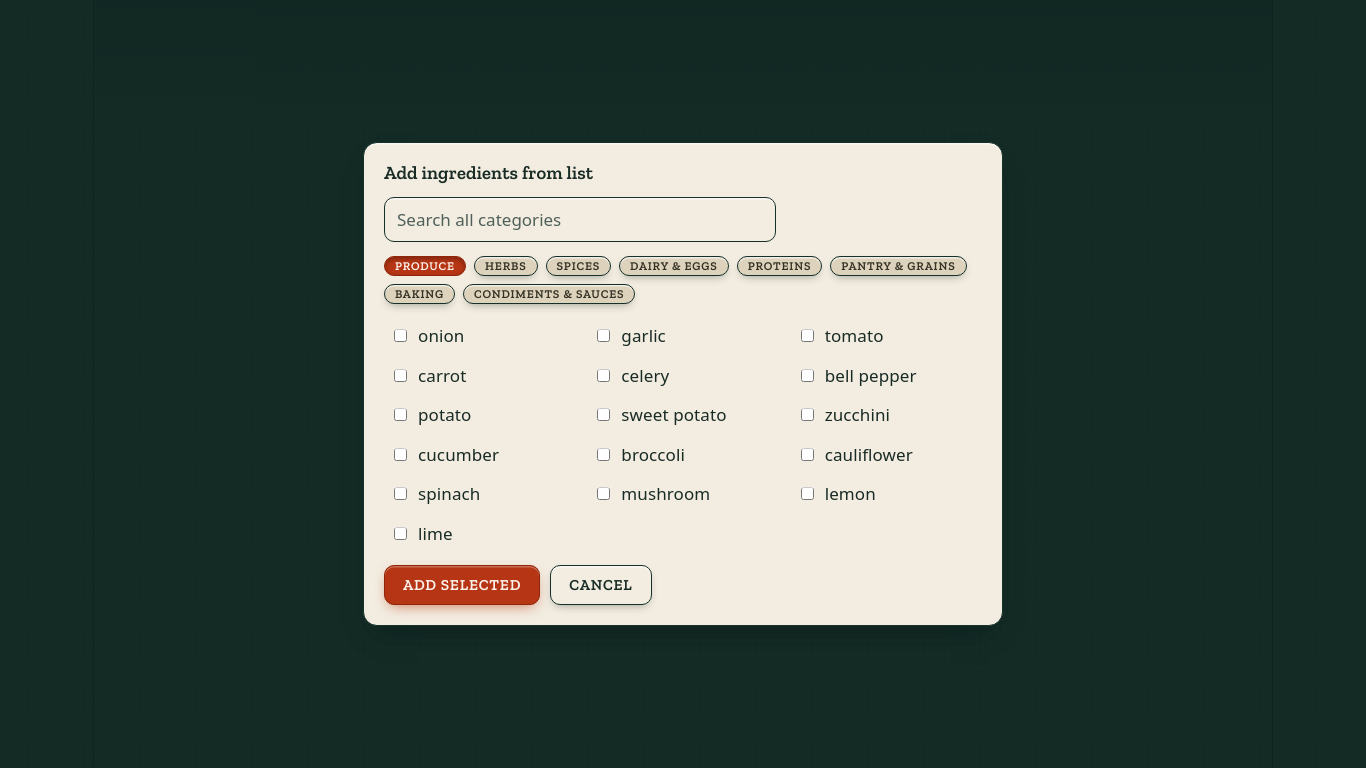
Test case: search narrows the catalog to nothing for a nonsense query
Expected: the checkbox labelled "onion" is shown, [394,329,407,342]
Type "zzzznotreal" into the field named "search ingredients" at (580, 219), box [384,197,776,242]
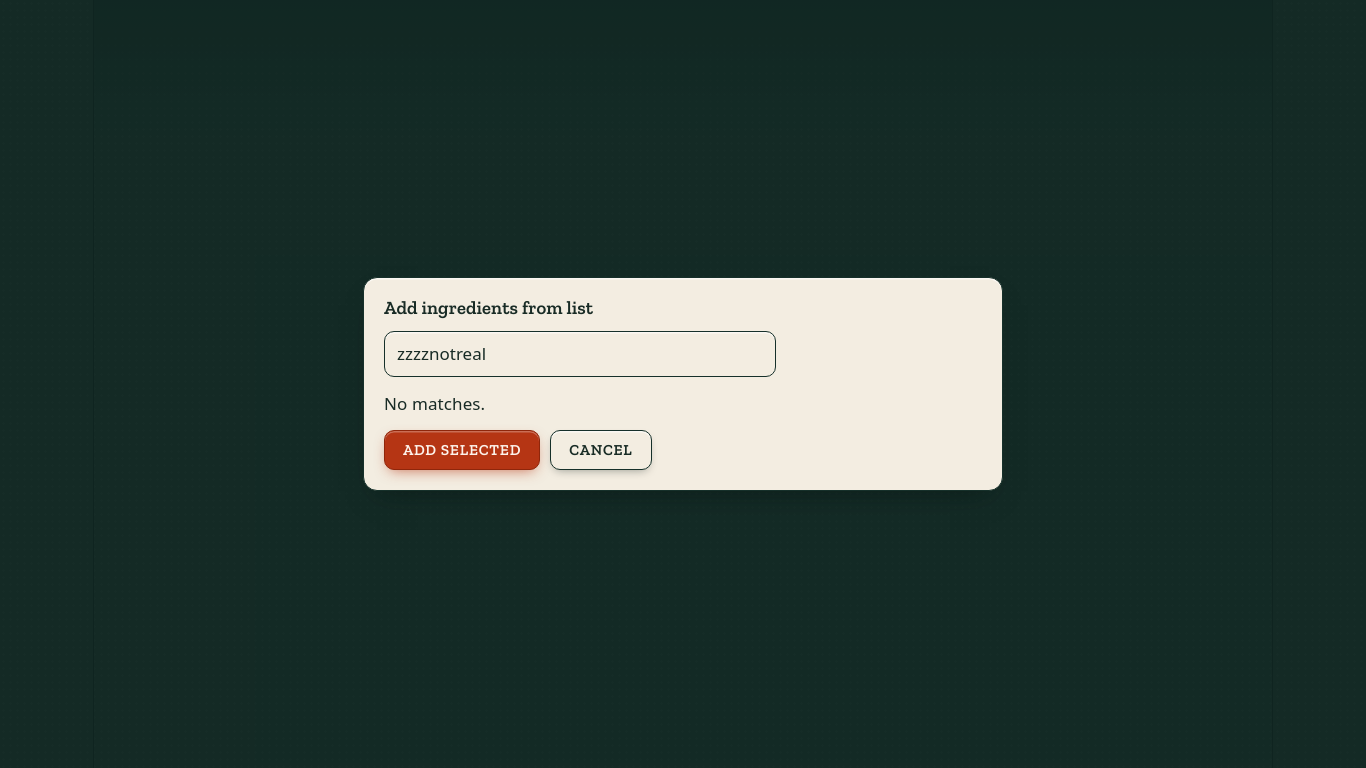
Result: no checkboxes are shown
